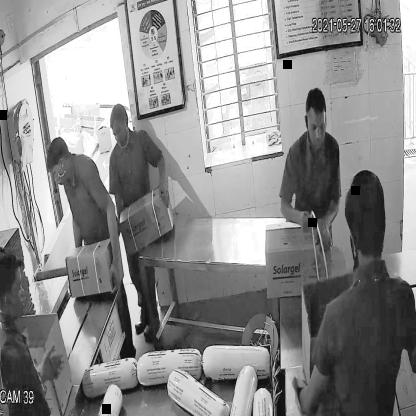no_goggles: (301, 115, 334, 140)
